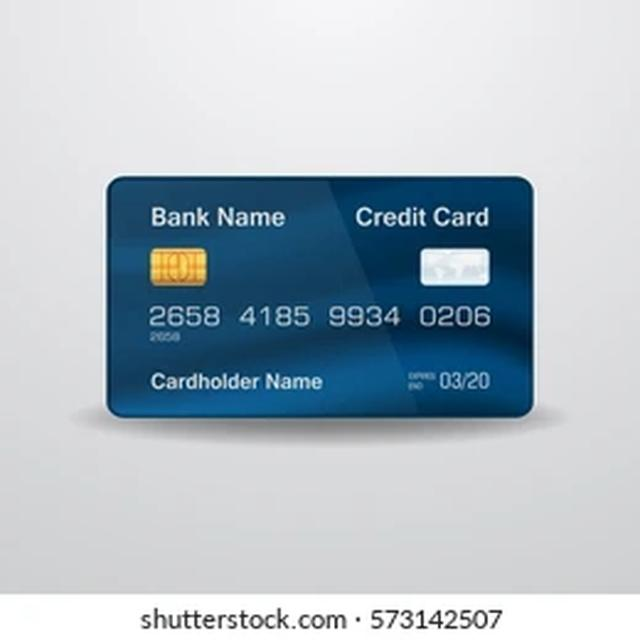card: (96, 170, 542, 430)
